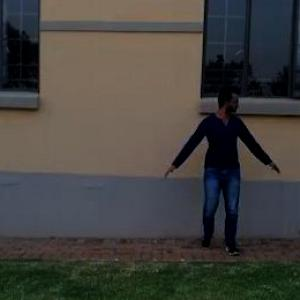land: (162, 80, 271, 264)
